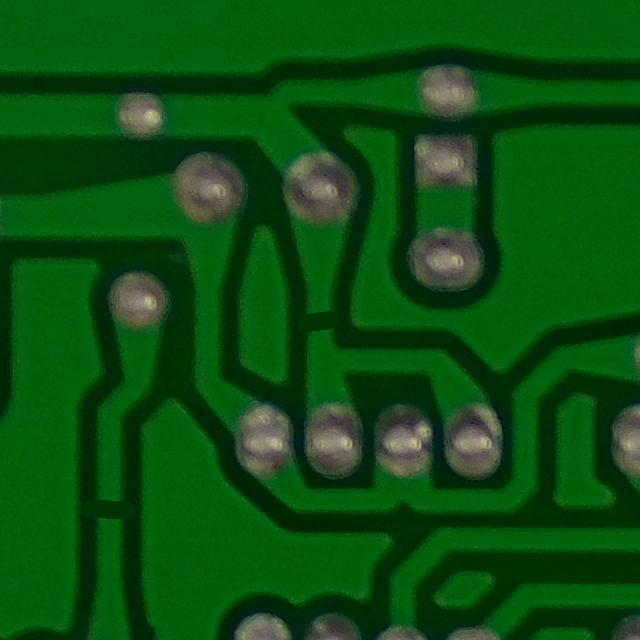open_circuit: (298, 299, 343, 342)
